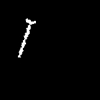half_double_crochet: (18, 19, 35, 56)
